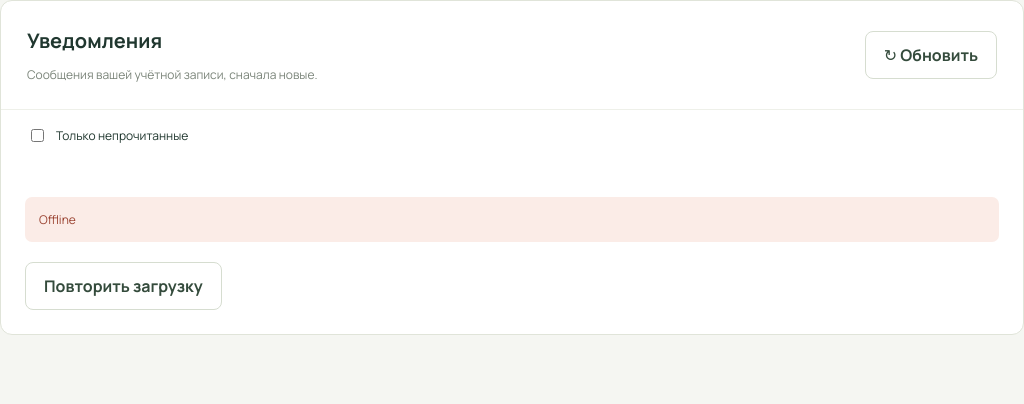
notifications › retries a failed load and shows an empty state
This screenshot has width=1024, height=404.
Check: the message reads "Offline", box [39,211,76,228]
Click the button "Повторить загрузку" at (123, 286), box [25,262,222,310]
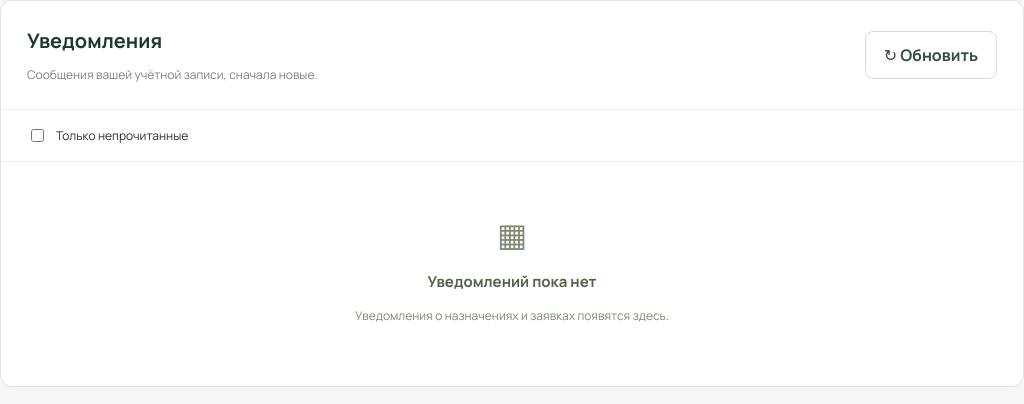
Check: the heading "Уведомлений пока нет" is shown, box [428,271,596,292]
